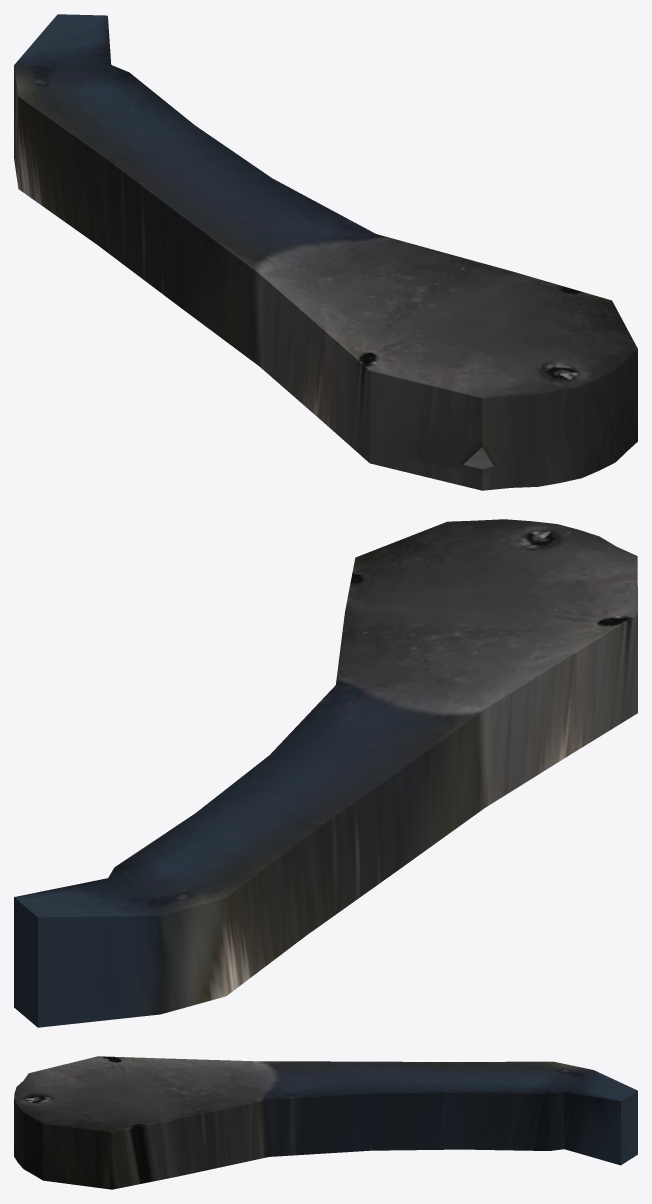
Rendered from thigh.obj.
3 views of the same model, one above another, from view 1: azimuth 30°, elevation 25°; view 2: azimuth 150°, elevation 25°; view 3: azimuth 270°, elevation 25° (orthographic). The views are drawn at different scales.
Visible parts, largest first — view 1: Cube_Cube.010; view 2: Cube_Cube.010; view 3: Cube_Cube.010.
Part boxes in pixels (left/top/right/bottom): Cube_Cube.010: left=14, top=14, right=637, bottom=490; Cube_Cube.010: left=14, top=519, right=637, bottom=1027; Cube_Cube.010: left=14, top=1056, right=637, bottom=1189.
Bounding box in the file's own units: 0.0897 × 0.035 × 0.3098.
1 material, 1 textured.
